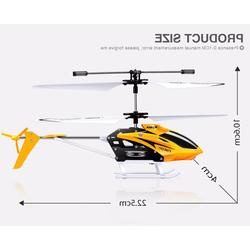drone: (1, 68, 228, 180)
